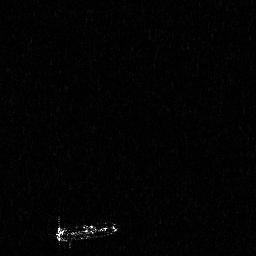ship: (47, 214, 120, 251)
